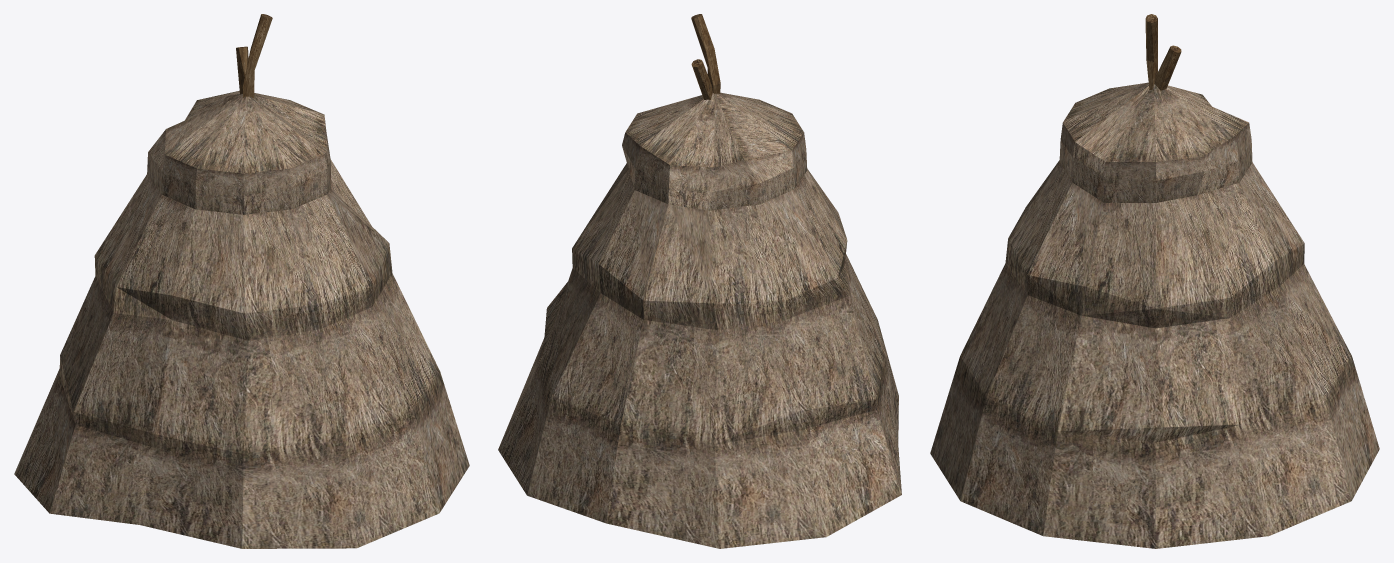
File: v3_haystack_LOD.dae
3 renders of one model, left to right at view 1: azimuth 30°, elevation 25°; view 2: azimuth 150°, elevation 25°; view 3: azimuth 270°, elevation 25°, orthographic. The views are drawn at different scales.
Visible parts, largest first — view 1: Material, Material1; view 2: Material, Material1; view 3: Material, Material1.
Part boxes in pixels (x1,y1,x2,y2): Material: [14, 90, 469, 548]; Material1: [236, 14, 272, 98]; Material: [498, 92, 901, 548]; Material1: [691, 14, 720, 99]; Material: [930, 82, 1379, 548]; Material1: [1145, 14, 1181, 90].
Size of the model in its own units: 2.2 by 2.46 by 2.2.
